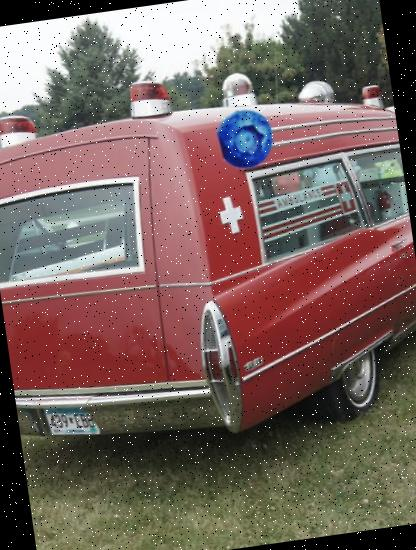Huckleberry: (212, 106, 280, 174)
